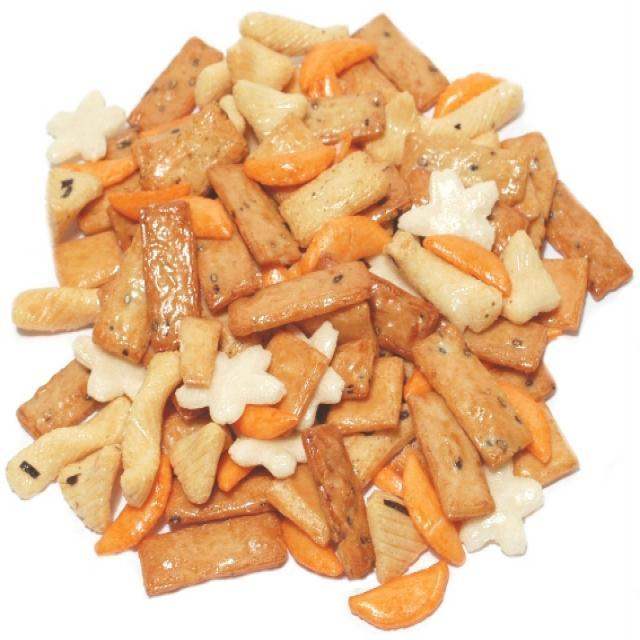Salatini: (11, 9, 613, 615)
